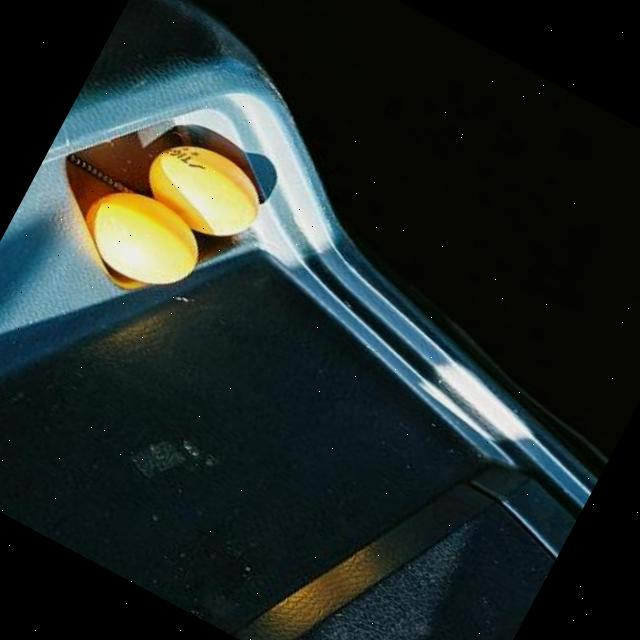ping-pong-ball: (65, 171, 215, 303), (132, 124, 278, 252)
